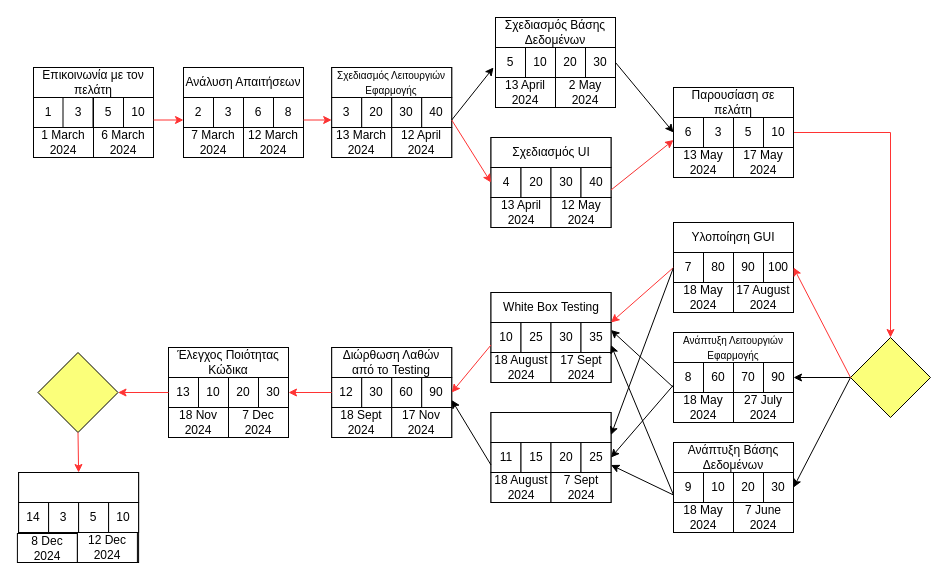
This 949x580 diagram has some shape labels left out. The shapes that lost their labels are listed below. From the top down, each one's box as (x1, y1, x2, y2) in pixels, then its label:
(490, 412, 611, 442): Black Box Testing
(18, 472, 139, 502): Παράδωση σε Πελάτη
